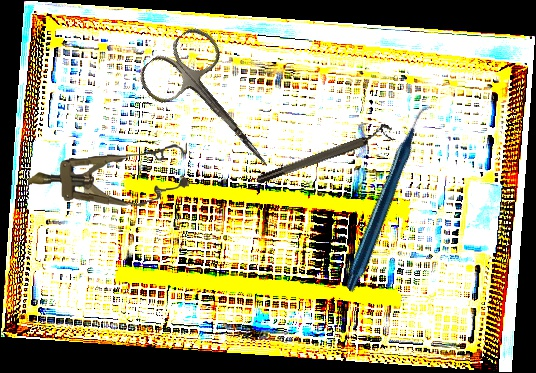Fixation Ring: (253, 121, 396, 187)
Handpiece: (287, 104, 493, 294)
Iris Scissors: (133, 20, 298, 195)
Speculum: (25, 141, 191, 212)
